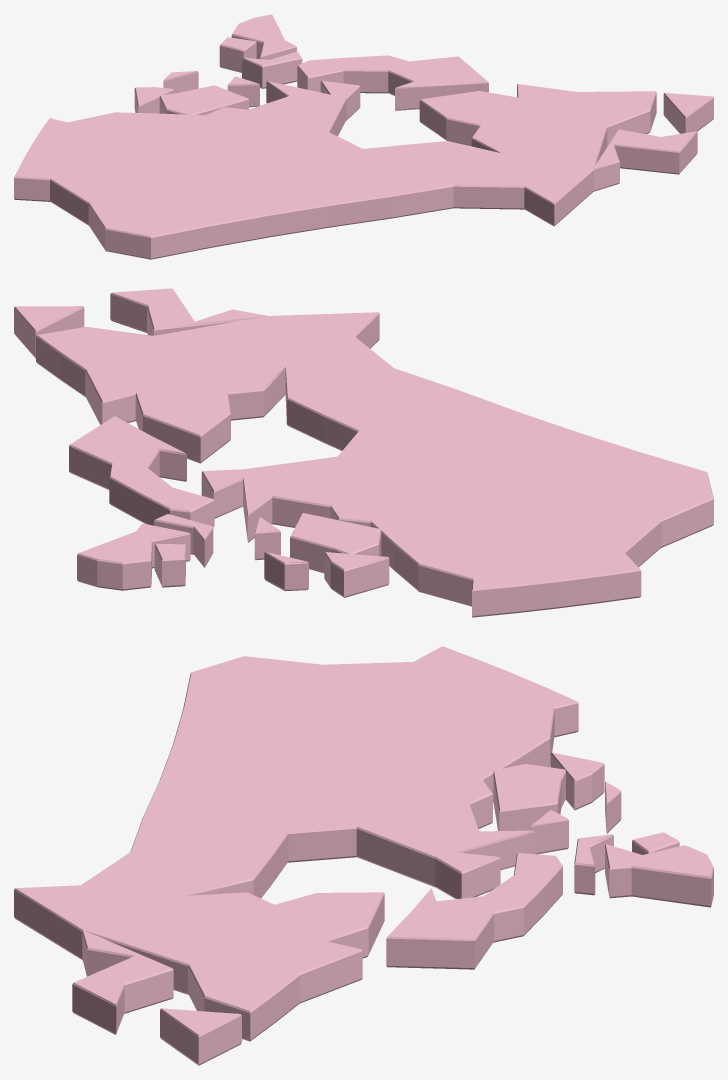
The model's file is CAN.glb.
3 views of the same model, one above another, from view 1: azimuth 30°, elevation 25°; view 2: azimuth 150°, elevation 25°; view 3: azimuth 270°, elevation 25° (orthographic). The views are drawn at different scales.
Bounding box in the file's own units: 1.85 × 0.068 × 1.4.
